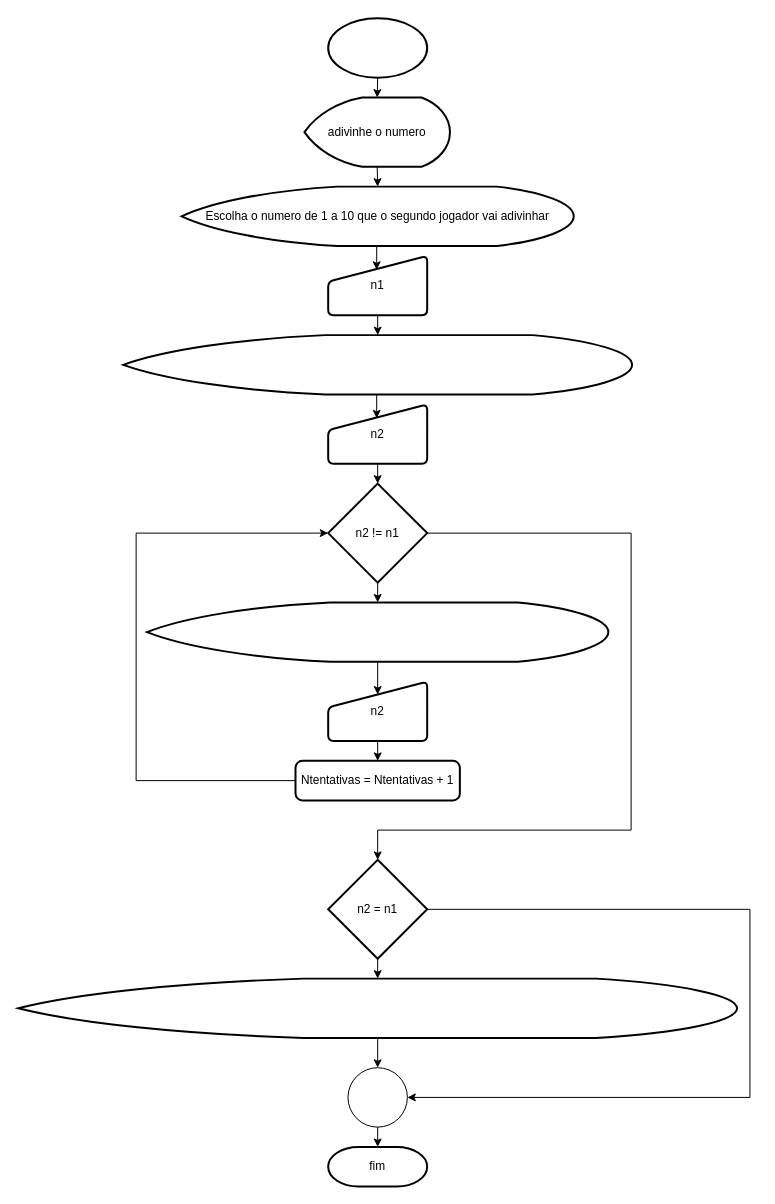
The diagram is 775 pixels wide and 1204 high, and some of its shapes have lost their labels. Each missing label, with the centre of its shape:
Adivinhe o numero de 1 a 10 que o primeiro jogador escolheu: point (377, 364)
Errou, tente novamente e escolha um numero de 1 a 10: point (377, 631)
inicio: point (377, 47)
Parabens, o numero era n1 você acertou em Ntentativas tentativas.: point (377, 1008)
